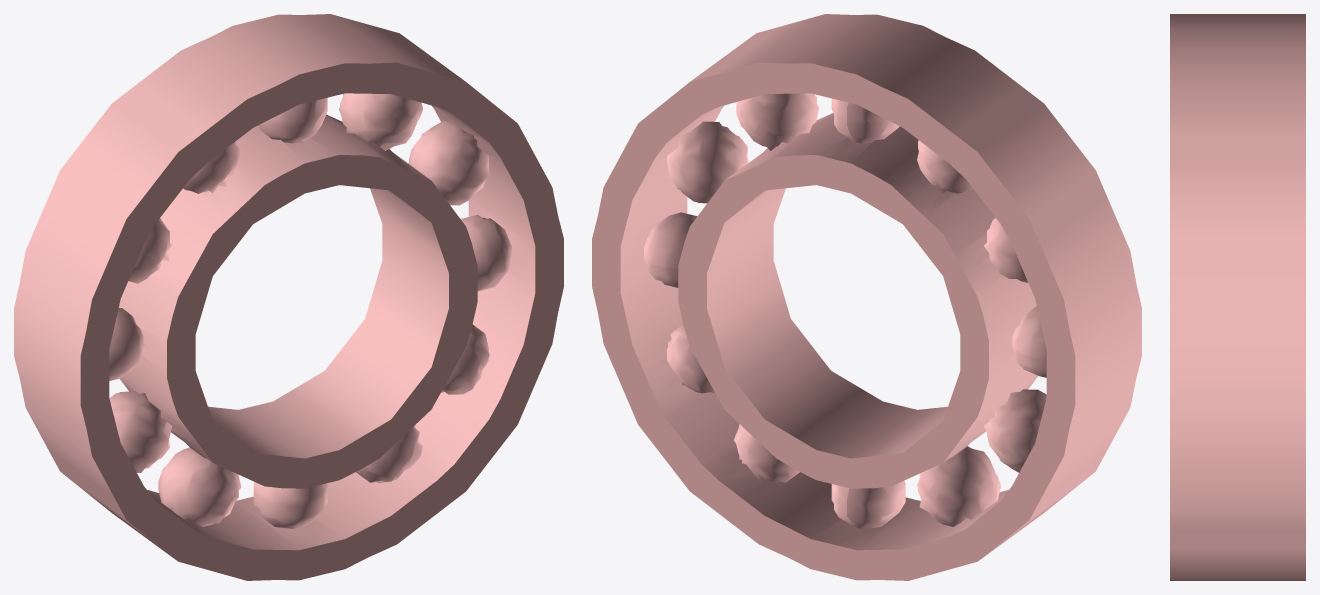
The model's file is Front bearing isolated.gltf.
The picture shows the model from 3 angles, left to right: view 1: azimuth 30°, elevation 25°; view 2: azimuth 150°, elevation 25°; view 3: azimuth 270°, elevation 25°; orthographic projection. The views are drawn at different scales.
Parts seen in each view (by area): view 1: Front bearing; view 2: Front bearing; view 3: Front bearing.
Boxes of the visible parts, x1,y1,x2,y2 form: Front bearing: [14, 14, 563, 580]; Front bearing: [592, 14, 1141, 580]; Front bearing: [1170, 14, 1305, 580].
Size of the model in its own units: 8.4 by 8.4 by 2.
